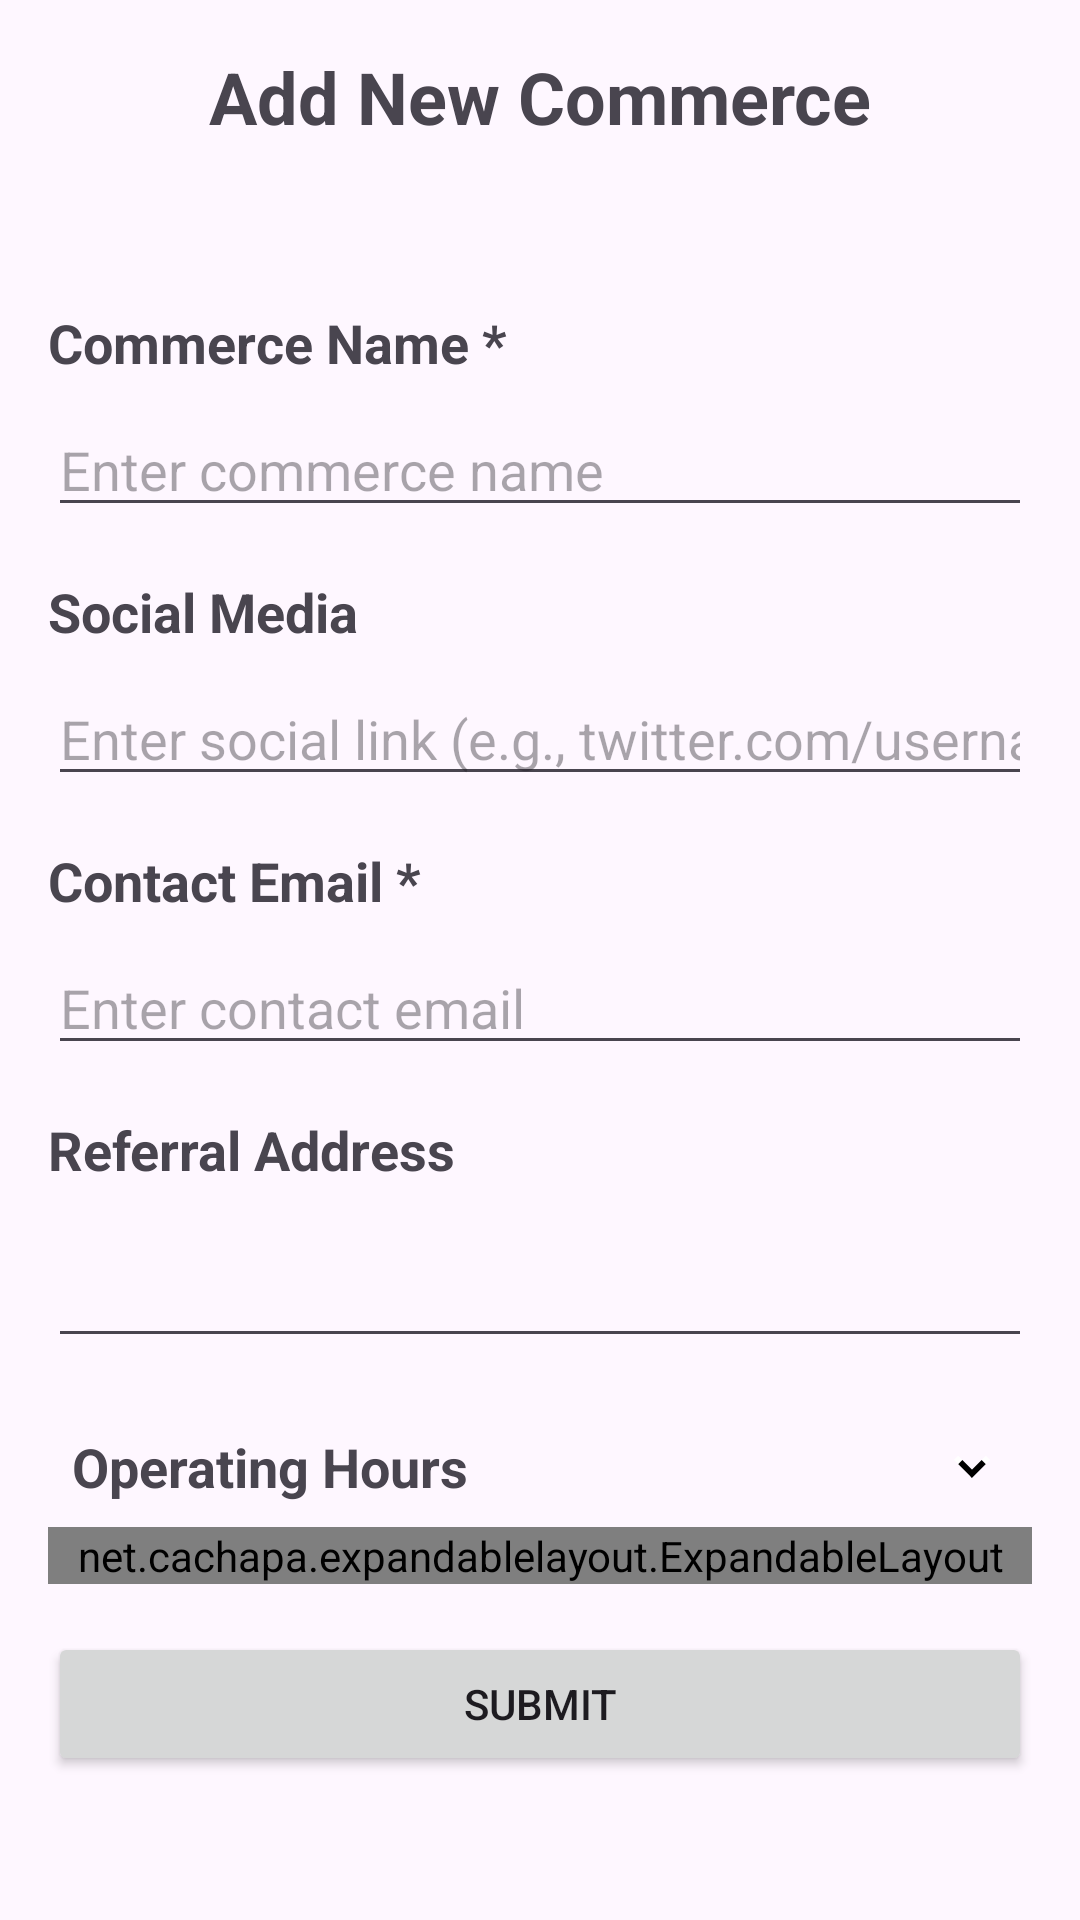

Point at icon controls on the screen. Image size 1080 x 1920, points as (x,y).
arrow down: (972,1469)
